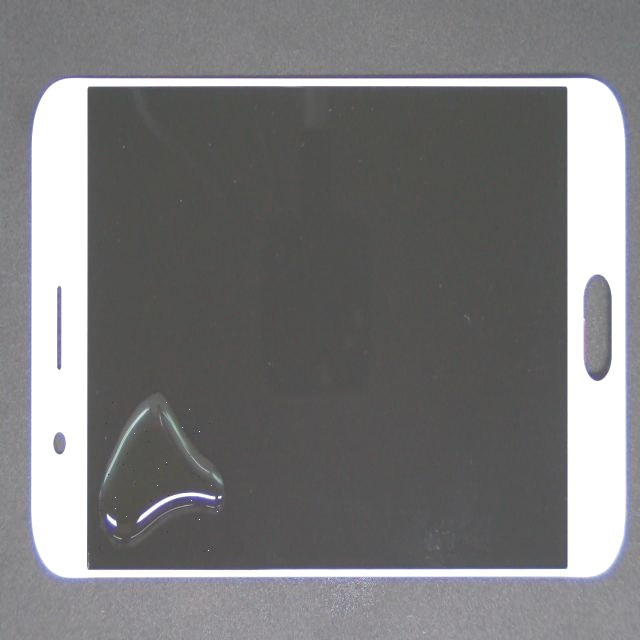oil: (94, 161, 193, 640)
